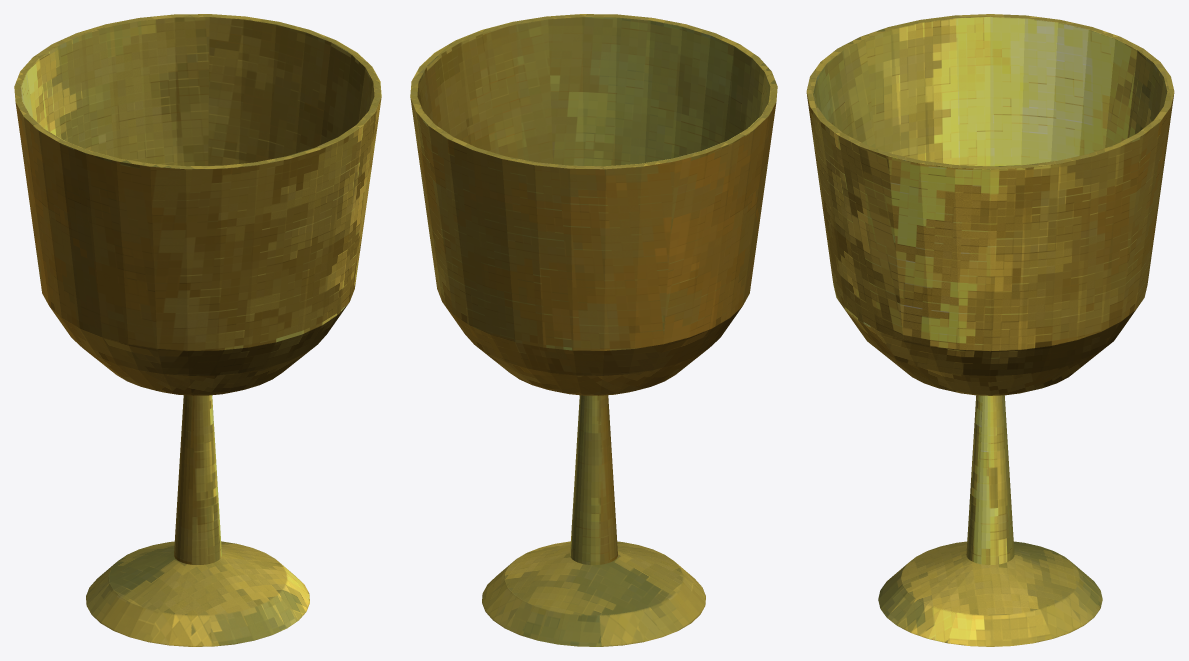
Rendered from cup.glb.
3 renders of one model, left to right at view 1: azimuth 30°, elevation 25°; view 2: azimuth 150°, elevation 25°; view 3: azimuth 270°, elevation 25°, orthographic.
Parts seen in each view (by area): view 1: Cylinder; view 2: Cylinder; view 3: Cylinder.
Part boxes in pixels (x1,y1,x2,y2): Cylinder: (14, 14, 381, 646); Cylinder: (410, 14, 777, 646); Cylinder: (806, 14, 1174, 646).
Bounding box in the file's own units: 0.1855 × 0.2825 × 0.1855.
Materials: 1 (1 with a texture image).
